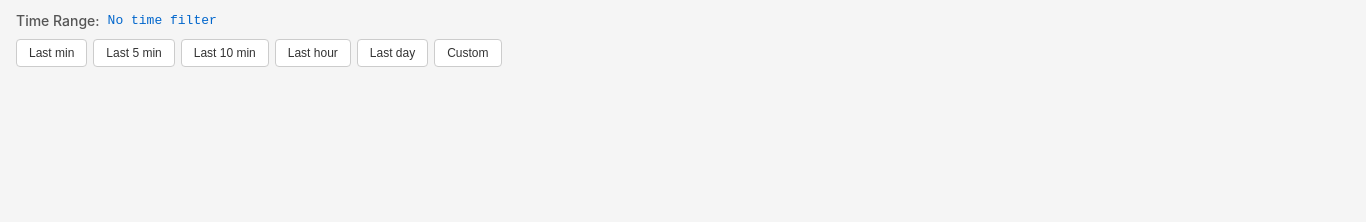
Test: TimeFilter › custom filter › shows error for invalid end time
Click the button "Custom".
click(468, 53)  # box [434,39,502,67]
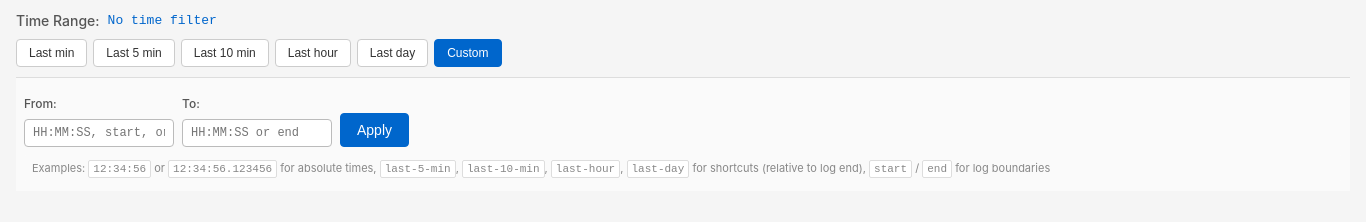
Type "invalid-end" into the field labelled "To:".
click(257, 133); type("invalid-end")  # box [182,119,332,147]
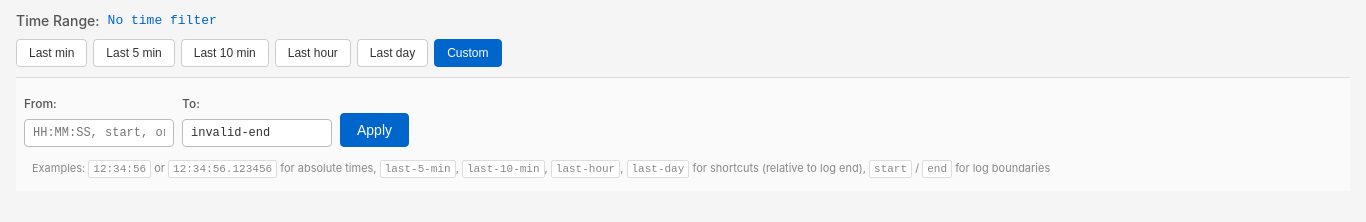
Click the button "Apply".
click(374, 130)  # box [340,113,409,147]
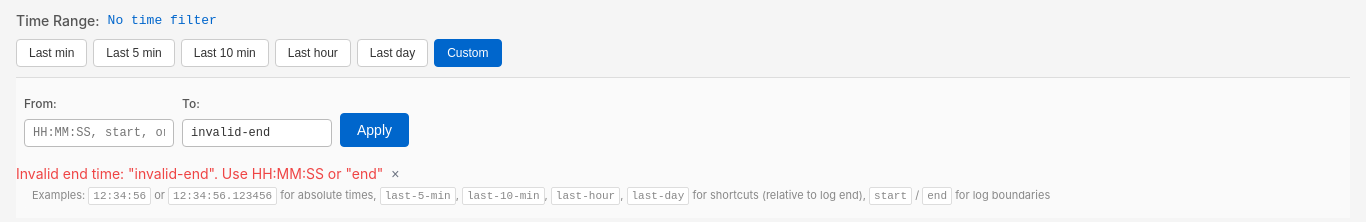
Check: the text "Invalid end time: \"invalid-end\". Use HH:MM:SS or \"end\" ×" is shown, box [16,165,400,182]
